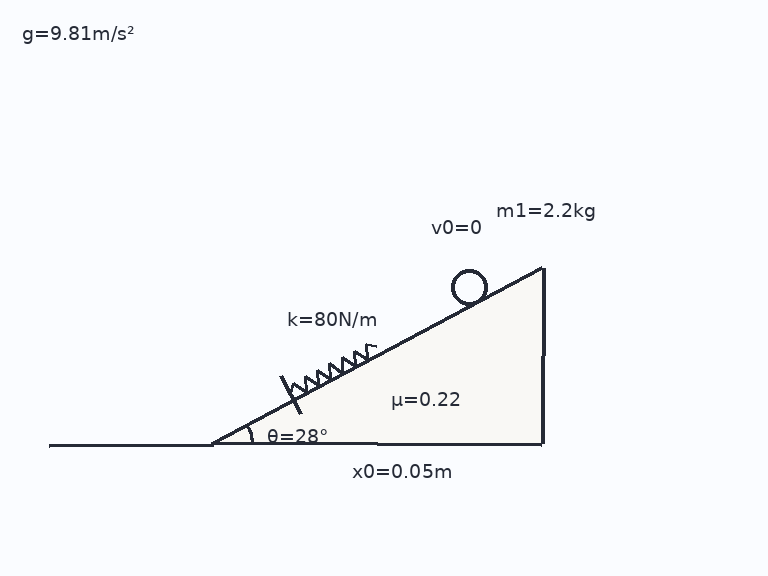ball: (449, 267, 489, 307)
ramp: (210, 267, 543, 446)
spring: (288, 342, 378, 394)
